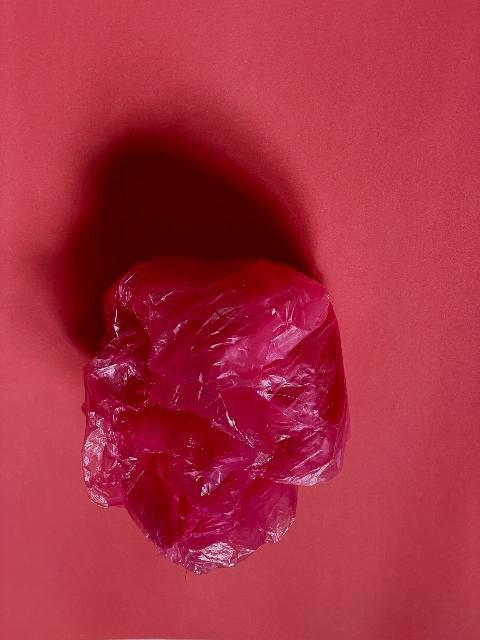plasticbag: (79, 253, 354, 579)
